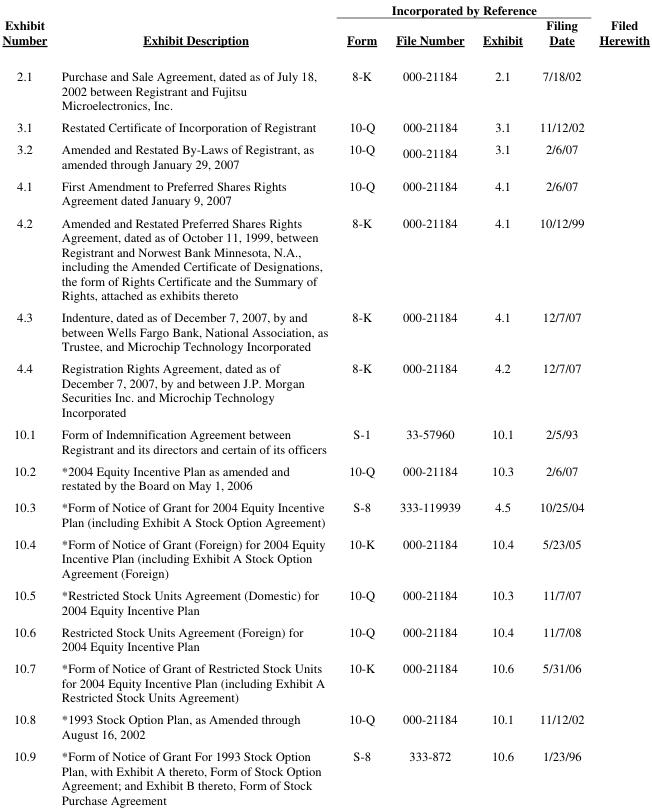table: (1, 0, 648, 807)
table column: (53, 0, 336, 807), (385, 0, 472, 807), (530, 0, 591, 807), (472, 0, 530, 807), (591, 0, 648, 807), (1, 0, 53, 807), (336, 0, 385, 807)
table column header: (1, 0, 648, 57)
table row: (1, 210, 648, 305), (1, 356, 648, 422), (1, 744, 648, 807), (1, 57, 648, 115), (1, 531, 648, 583), (1, 305, 648, 356), (1, 656, 648, 707), (1, 17, 648, 57), (1, 173, 648, 210), (1, 458, 648, 495), (1, 619, 648, 656), (1, 707, 648, 744), (1, 137, 648, 173), (1, 422, 648, 458), (1, 495, 648, 531), (1, 583, 648, 619), (1, 115, 648, 137), (1, 0, 648, 17)
table spanning cell: (53, 0, 336, 57), (336, 0, 591, 17), (591, 0, 648, 57), (1, 0, 53, 57)
